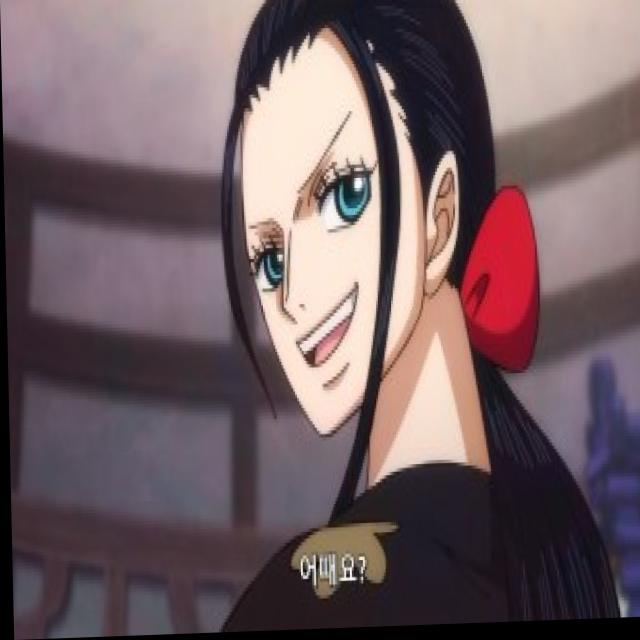NicoRobin: (212, 0, 513, 419)
